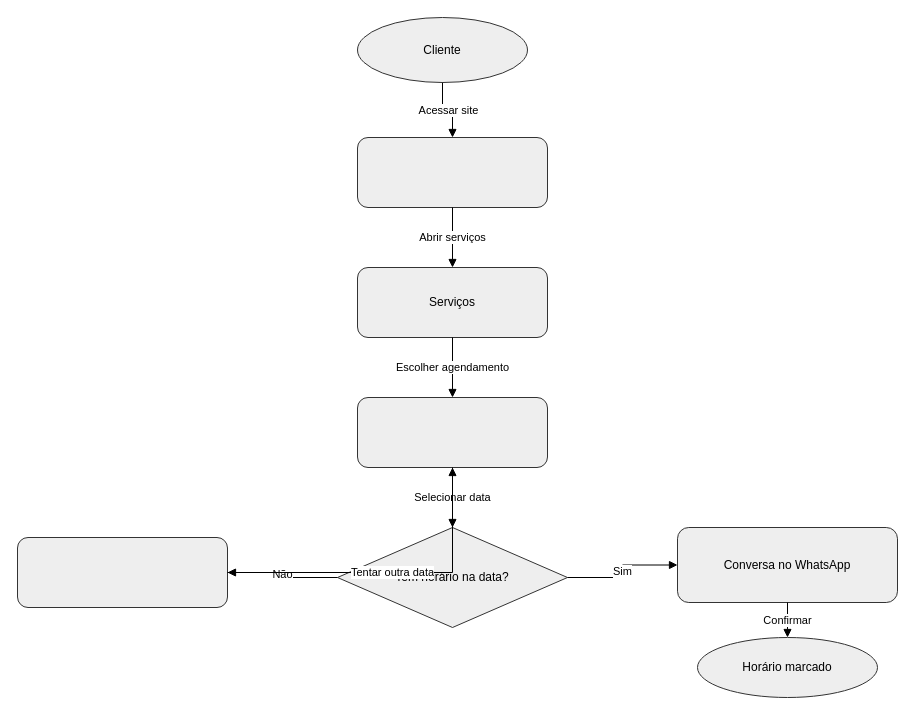
Image size: 915x715. Some labels were removed from this diagram. Here are the shapes that lost their labels. From the top down, the centre of each, then its label:
(x=452, y=172): Página inicial
(x=452, y=432): Como agendar
(x=122, y=572): Escolher outra data
